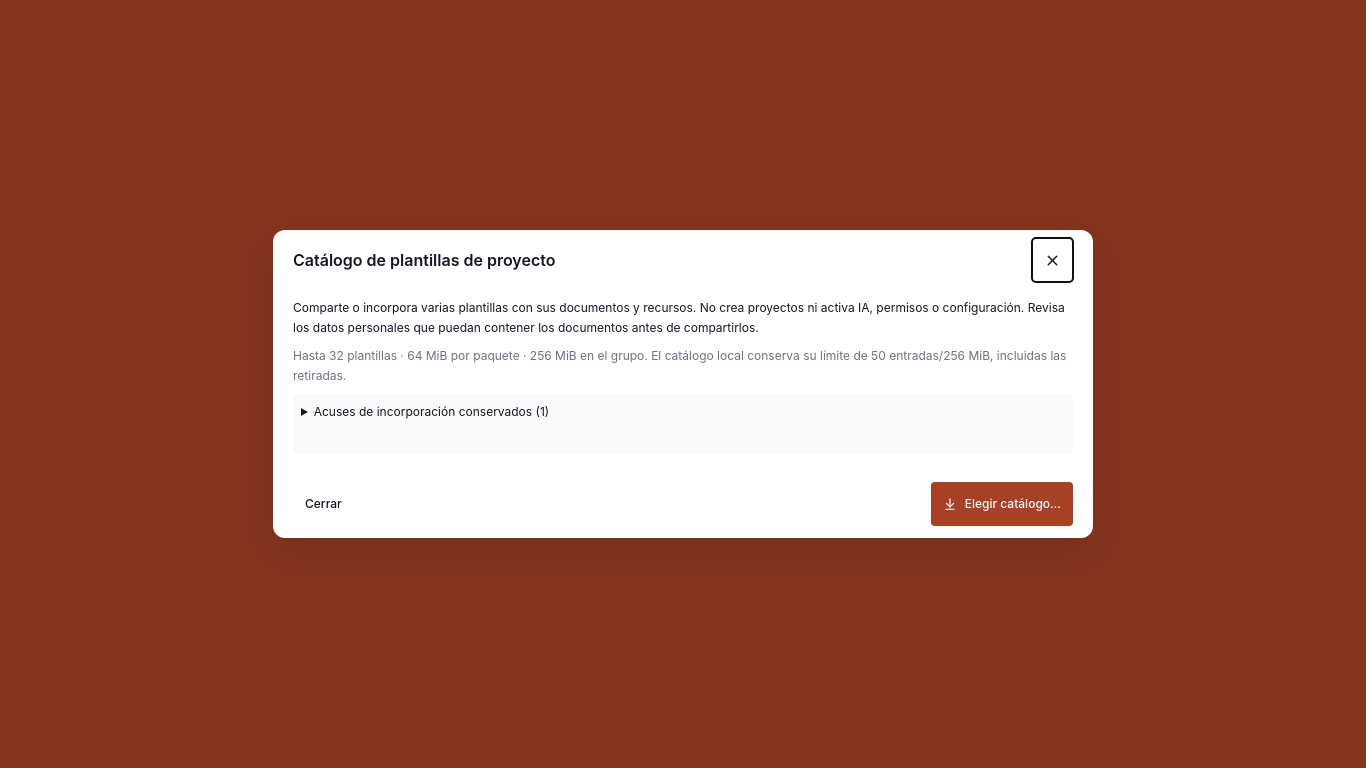
Test: reopens a retained receipt using a read without creating a project or transfer
The image size is (1366, 768).
Click the heading "Acuses de incorporación conservados (1)" at x=431, y=412, box 314,404 -> 549,419
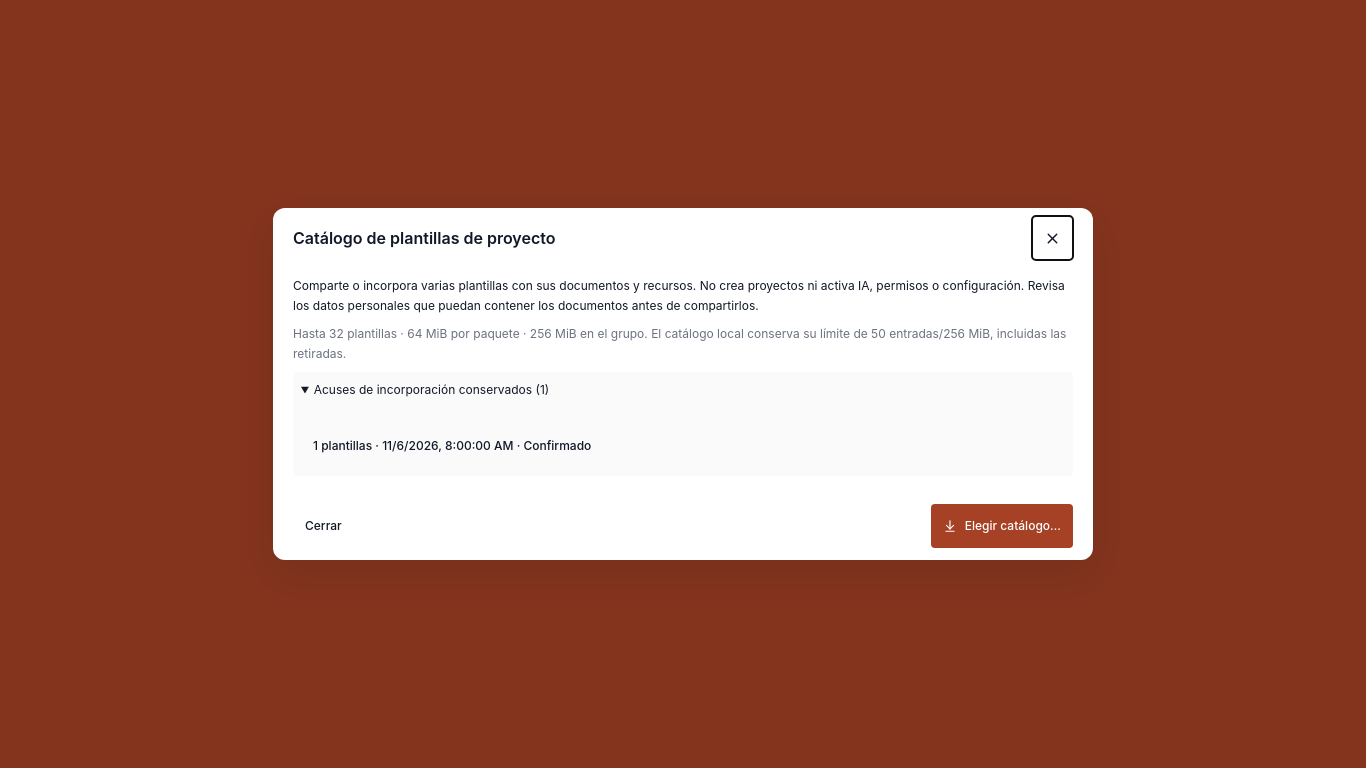
Click the button "1 plantillas · 11/6/2026, 8:00:00 AM · Confirmado" at x=350, y=446, box 301,424 -> 1065,468
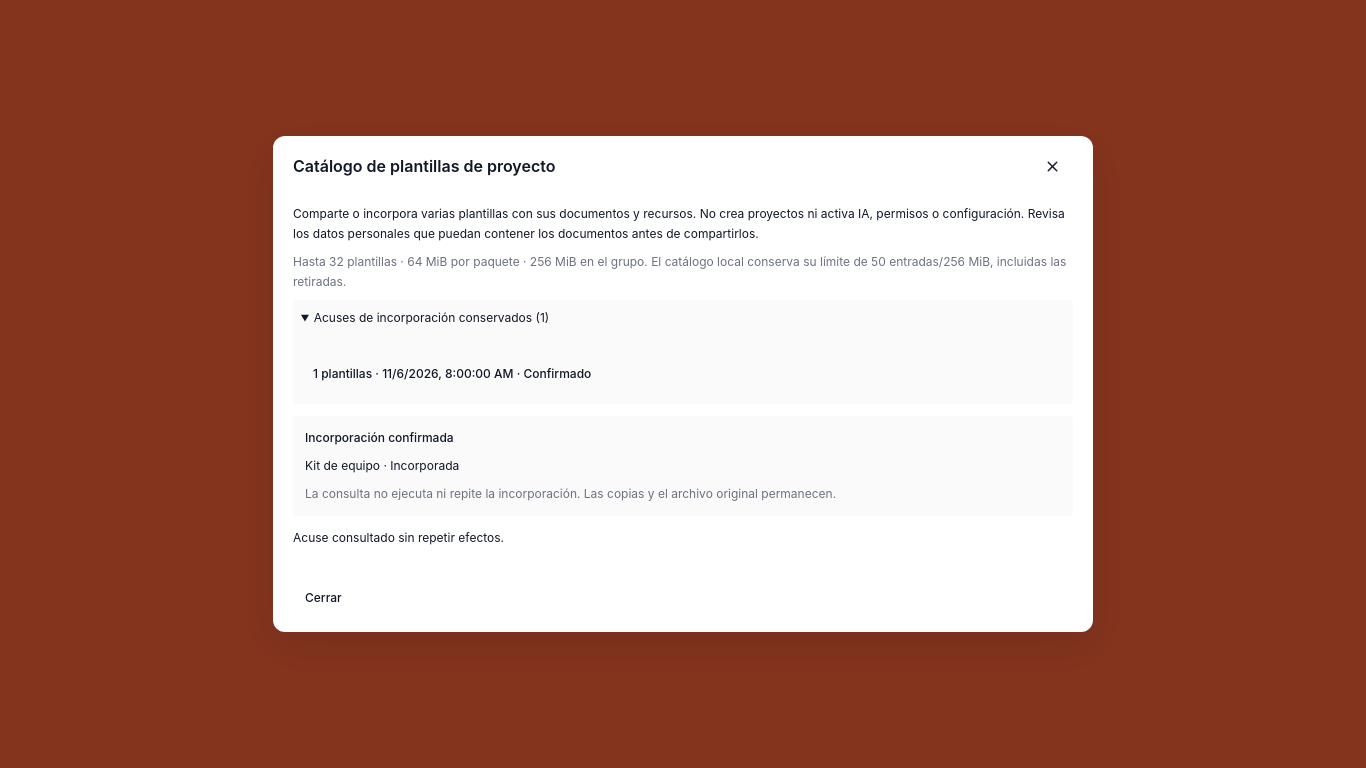
expect the heading "Incorporación confirmada" is shown: met, box 305,430 -> 454,445
